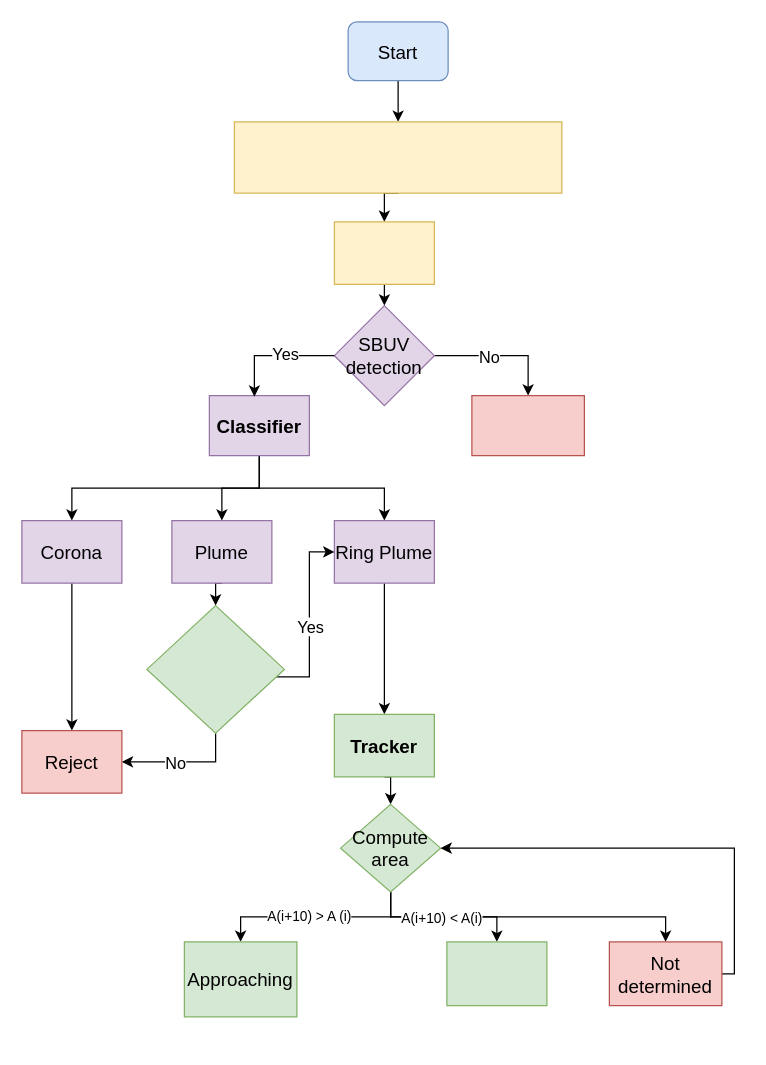
The diagram is 766 pixels wide and 1065 high, and some of its shapes have lost their labels. The centre of each missing label's shape, as x and y in pixels:
"check if Class changes" belongs at (215,668).
"Detector" belongs at (383,252).
"Receding" belongs at (496,973).
"Reject as clutter" belongs at (527,425).
"Video input with SBUV and non-SBUV clutter" belongs at (397,157).
